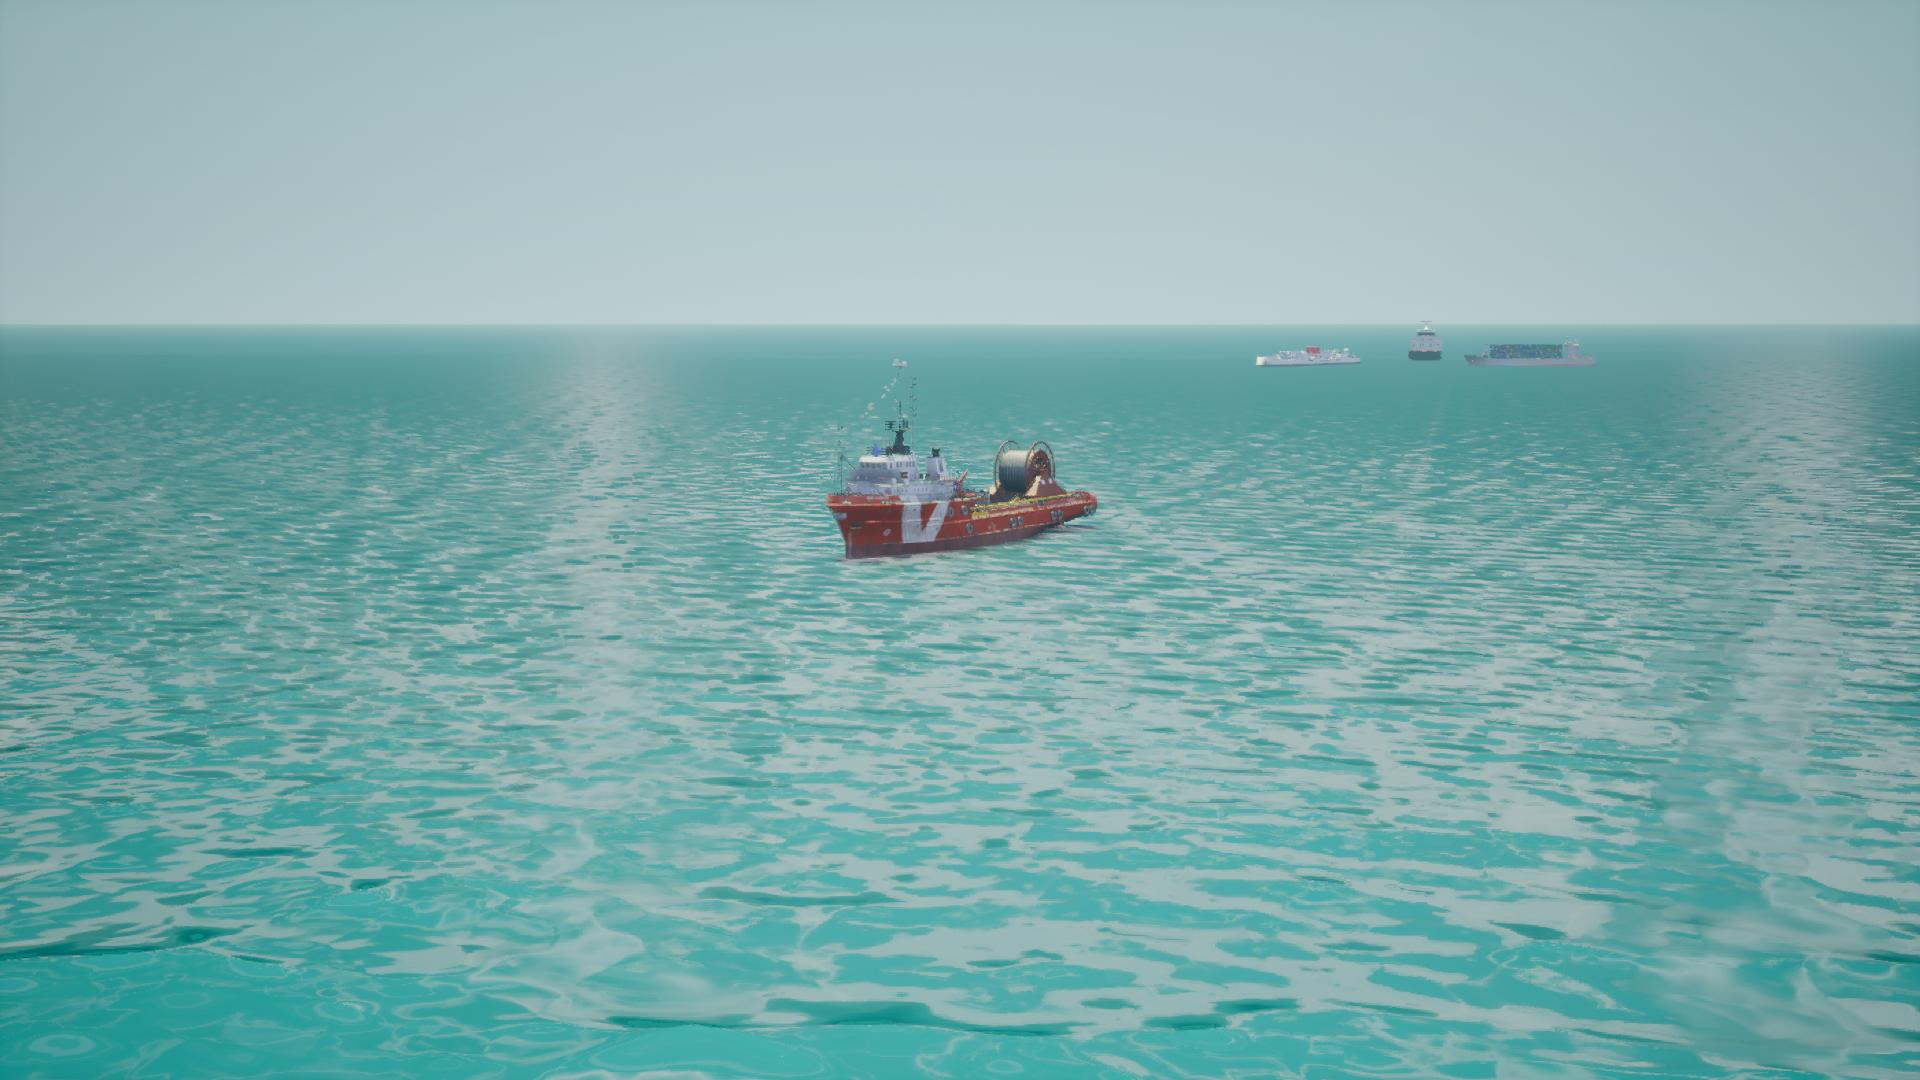Tug Boat: (824, 361, 1096, 566)
